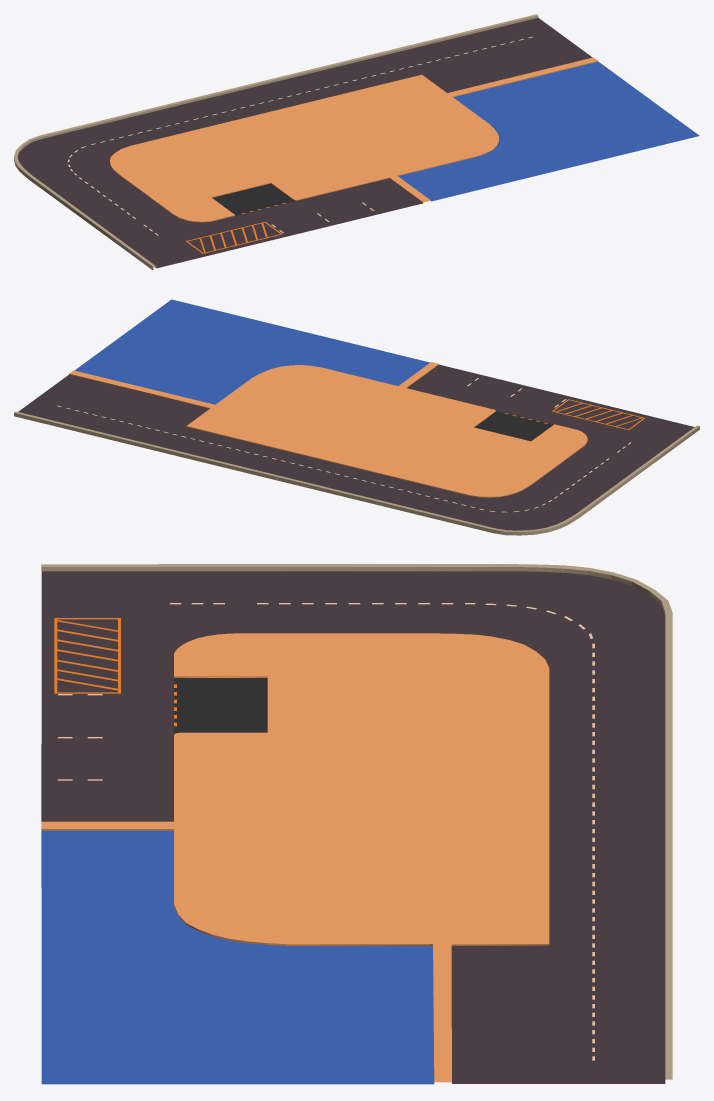
Rendered from DiMian3_Mo.fbx.
3 views of the same model, one above another, from view 1: azimuth 30°, elevation 25°; view 2: azimuth 150°, elevation 25°; view 3: azimuth 270°, elevation 25° (orthographic). The views are drawn at different scales.
Visible parts, largest first — view 1: 对象001; view 2: 对象001; view 3: 对象001.
Boxes of the visible parts, x1,y1,x2,y2 form: 对象001: (14, 14, 699, 270); 对象001: (14, 299, 699, 535); 对象001: (41, 564, 672, 1084).
Bounding box in the file's own units: 18374 × 119 × 9505.
1 material, 1 textured.
